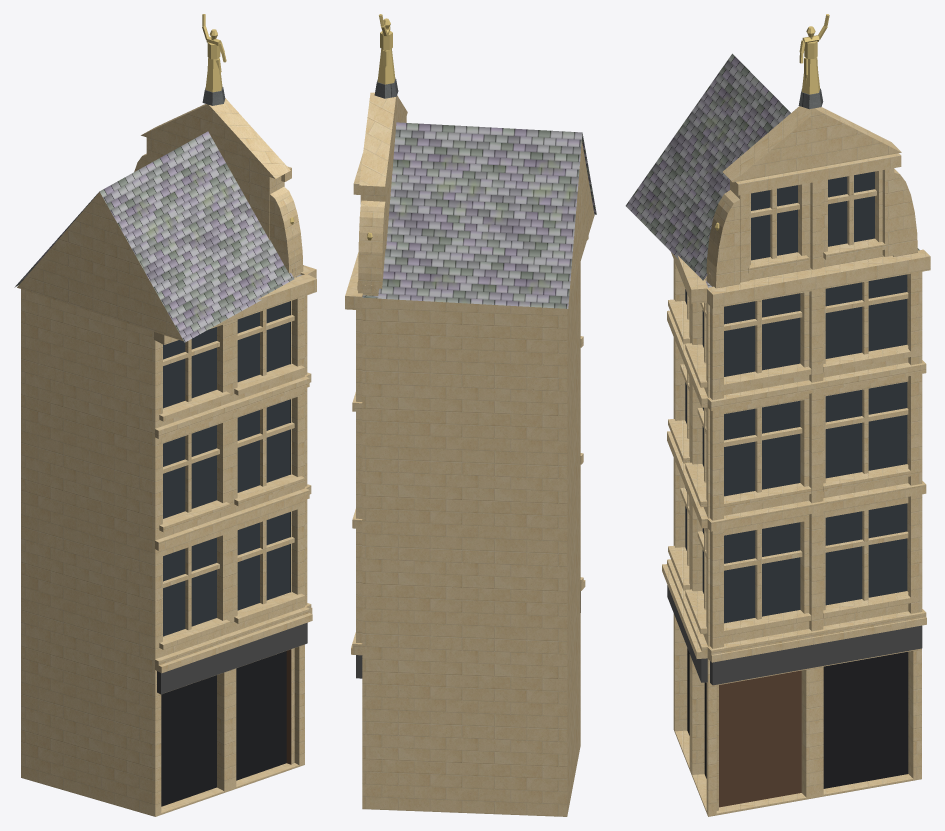
3 views of the same model, side by side, from view 1: azimuth 30°, elevation 25°; view 2: azimuth 150°, elevation 25°; view 3: azimuth 270°, elevation 25° (orthographic). The views are drawn at different scales.
Visible parts, largest first — view 1: bldg_496944385_landmark; view 2: bldg_496944385_landmark; view 3: bldg_496944385_landmark.
Boxes of the visible parts, x1,y1,x2,y2 form: bldg_496944385_landmark: (14, 14, 316, 816); bldg_496944385_landmark: (345, 14, 596, 816); bldg_496944385_landmark: (625, 14, 930, 816).
Size of the model in its own units: 7.31 by 20.66 by 7.34.
Materials: 8 (3 with a texture image).
